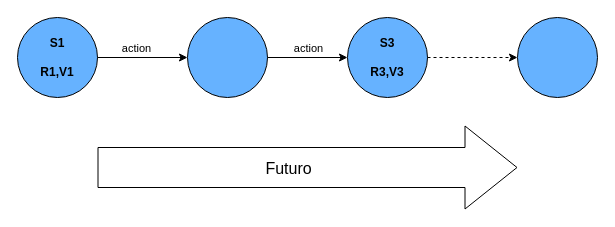
The diagram is 615 pixels wide and 227 high, and some of its shapes have lost their labels. The shapes that lost their labels are listed below. From the top down, each one's centre as x and y in pixels, then its label:
(227,57): S2 R2,V2
(557,57): SN RN
